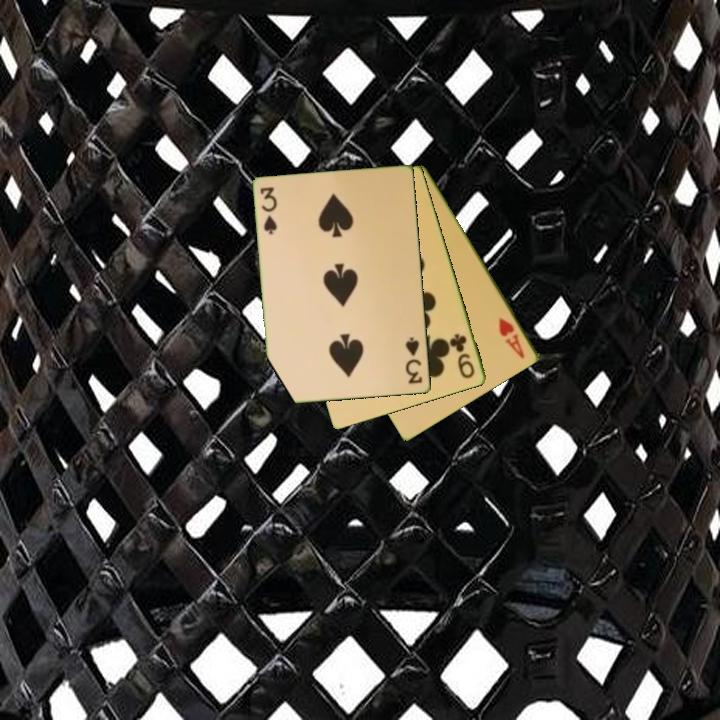3s: (402, 334, 426, 387), (257, 184, 280, 237)
9c: (447, 330, 478, 382)
Ah: (495, 314, 528, 362)
